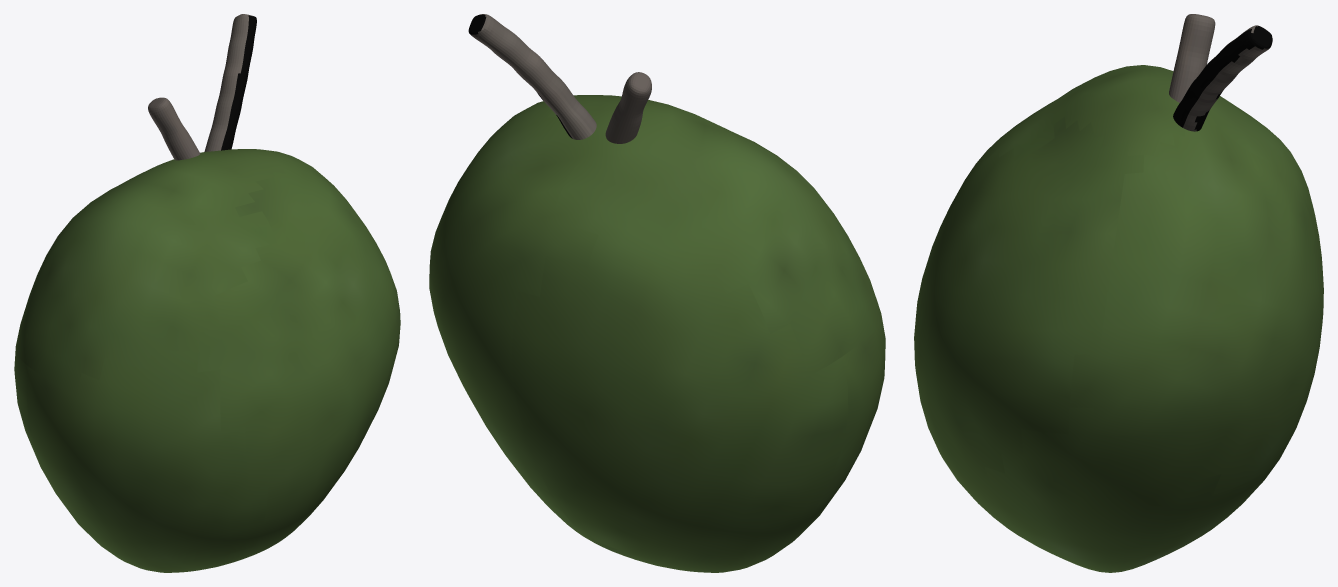
File: Coco.fbx
3 views of the same model, side by side, from view 1: azimuth 30°, elevation 25°; view 2: azimuth 150°, elevation 25°; view 3: azimuth 270°, elevation 25° (orthographic). The views are drawn at different scales.
Parts seen in each view (by area): view 1: Coco_LOD0; view 2: Coco_LOD0; view 3: Coco_LOD0.
Boxes of the visible parts, x1,y1,x2,y2 form: Coco_LOD0: [14, 14, 400, 572]; Coco_LOD0: [429, 14, 885, 572]; Coco_LOD0: [914, 14, 1323, 572].
Size of what is drawn, in the model's own units: 43.36 by 57.73 by 36.22.
